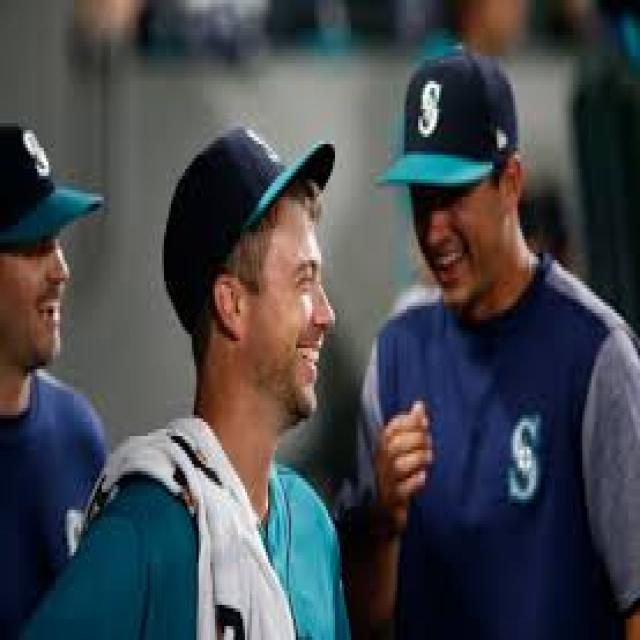3_gorra: (374, 48, 520, 188)
